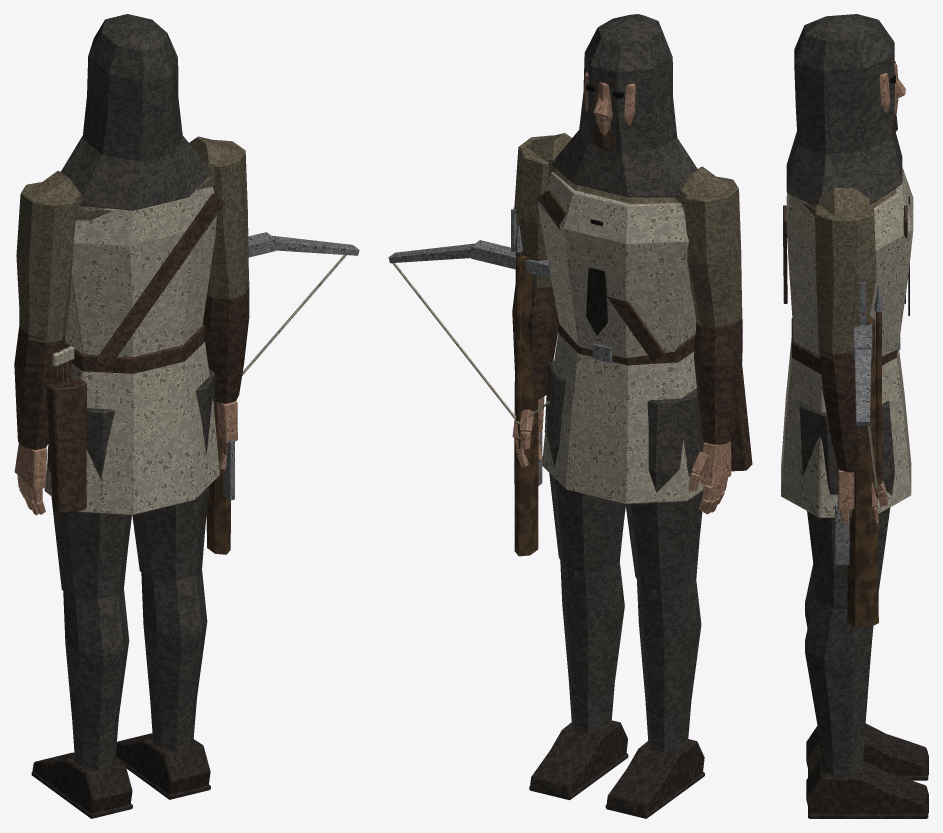
The model's file is kusznik.glb.
3 views of the same model, side by side, from view 1: azimuth 30°, elevation 25°; view 2: azimuth 150°, elevation 25°; view 3: azimuth 270°, elevation 25° (orthographic). The views are drawn at different scales.
Visible parts, largest first — view 1: miednica, tors, glowa, golen_l, golen_p, ramie_l, udo_l, udo_p, ramie_p, bron, stopa_l, stopa_p (+4 smaller); view 2: tors, miednica, glowa, udo_l, bron, golen_l, golen_p, ramie_l, udo_p, przedramie_l, stopa_l, stopa_p (+4 smaller); view 3: glowa, tors, bron, golen_p, miednica, ramie_p, udo_p, stopa_p, przedramie_p, stopa_l, dlon_p, golen_l.
Part boxes in pixels (x1,y1,x2,y2): miednica: (44,325,219,514); tors: (65,176,225,368); glowa: (61,14,211,210); golen_l: (63,587,129,769); golen_p: (141,568,207,750); ramie_l: (16,171,83,343); udo_l: (47,408,131,600); udo_p: (132,368,215,581); ramie_p: (189,136,249,299); bron: (206,232,359,554); stopa_l: (31,752,132,818); stopa_p: (115,733,210,799); tors: (537,170,696,360); miednica: (542,320,752,503); glowa: (551,14,697,197); udo_l: (625,388,704,597); bron: (388,207,550,556); golen_l: (637,579,701,753); golen_p: (560,560,624,734); ramie_l: (676,166,742,328); udo_p: (544,360,625,578); przedramie_l: (694,319,742,444); stopa_l: (605,739,704,818); stopa_p: (529,720,628,800); glowa: (786,14,905,206); tors: (783,167,913,358); bron: (835,281,883,626); golen_p: (805,592,873,776); miednica: (781,318,911,517); ramie_p: (815,188,876,359); udo_p: (799,401,894,608); stopa_p: (806,760,928,818); przedramie_p: (819,350,866,472); stopa_l: (806,723,928,780); dlon_p: (838,469,887,529); golen_l: (805,564,815,628).
Bounding box in the file's own units: 0.8571 × 1.82 × 0.3171.
10 materials, 10 textured.
